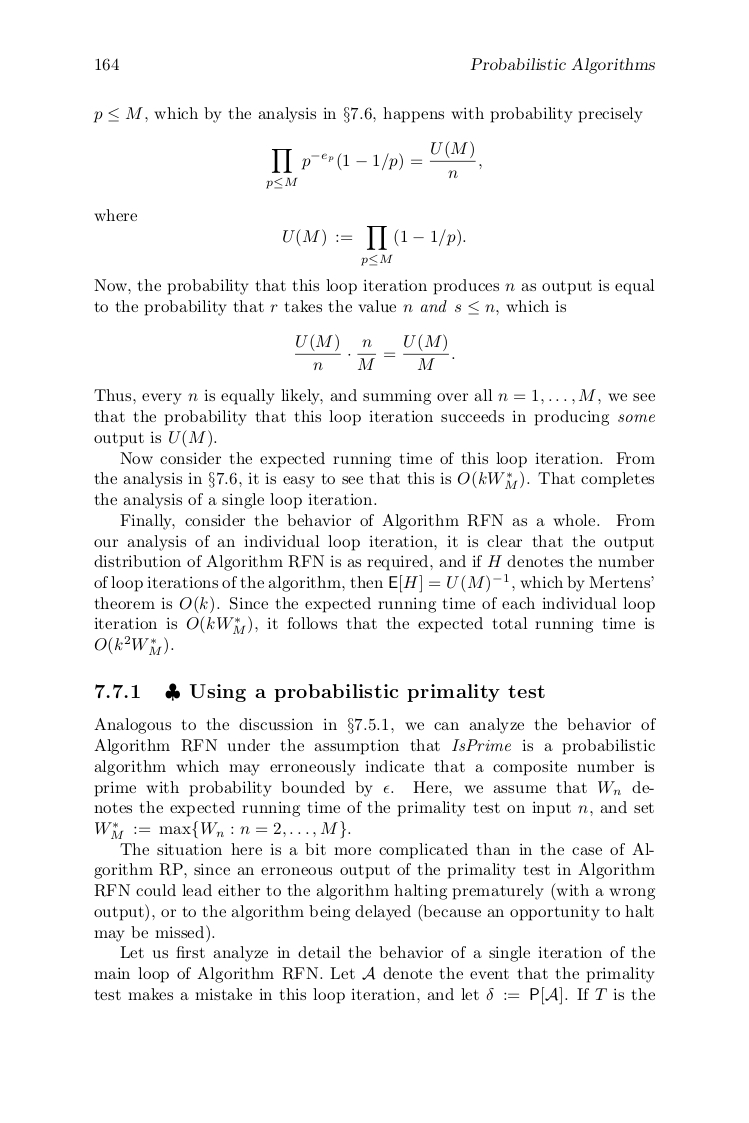formula: (266, 140, 481, 189), (283, 226, 465, 265), (295, 333, 454, 371)
